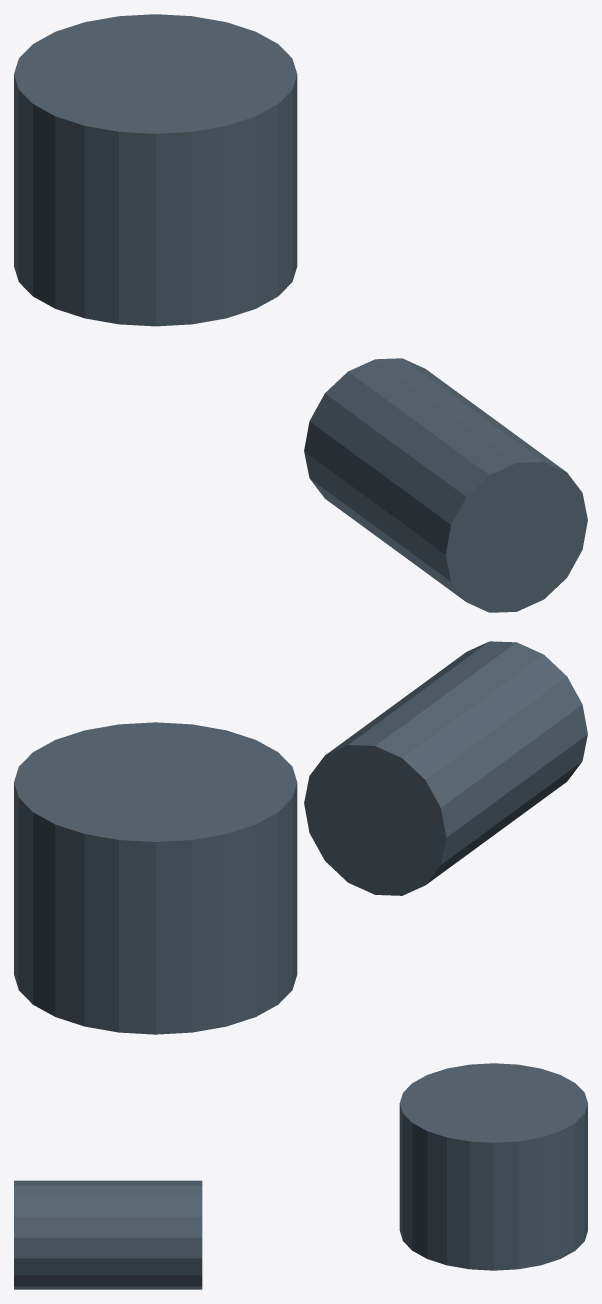
File: drone_weapon_steel.obj
3 views of the same model, one above another, from view 1: azimuth 30°, elevation 25°; view 2: azimuth 150°, elevation 25°; view 3: azimuth 270°, elevation 25° (orthographic). The views are drawn at different scales.
Parts seen in each view (by area): view 1: part_000, part_001; view 2: part_000, part_001; view 3: part_000, part_001.
Part boxes in pixels (x1,y1,x2,y2): part_000: [14, 14, 297, 326]; part_001: [304, 358, 587, 612]; part_000: [14, 722, 297, 1034]; part_001: [304, 641, 587, 895]; part_000: [399, 1063, 587, 1270]; part_001: [14, 1180, 202, 1289].
Size of the model in its own units: 0.2 by 0.213 by 0.61.
